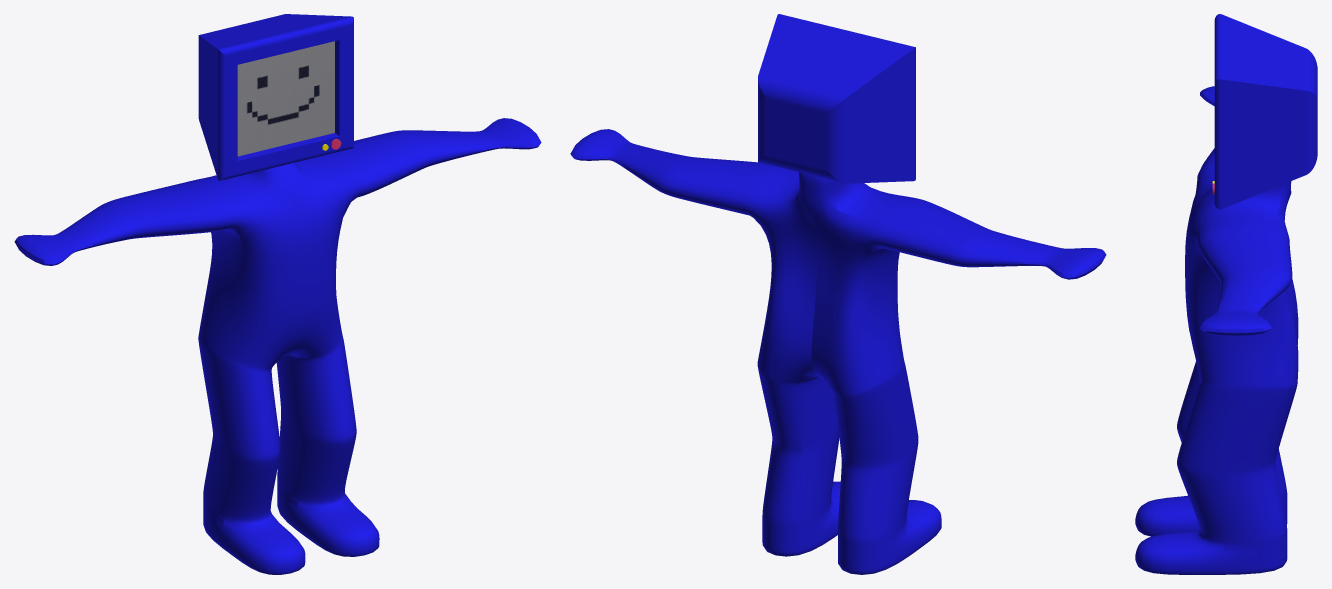
File: My Character.fbx
3 renders of one model, left to right at view 1: azimuth 30°, elevation 25°; view 2: azimuth 150°, elevation 25°; view 3: azimuth 270°, elevation 25°, orthographic. The views are drawn at different scales.
Parts seen in each view (by area): view 1: Cube.001, Cube; view 2: Cube.001, Cube; view 3: Cube.001, Cube.
Part boxes in pixels (x1=…): Cube.001: x1=14, y1=118, x2=541, y2=574; Cube: x1=198, y1=14, x2=353, y2=180; Cube.001: x1=570, y1=129, x2=1106, y2=574; Cube: x1=758, y1=14, x2=915, y2=183; Cube.001: x1=1135, y1=86, x2=1298, y2=574; Cube: x1=1214, y1=14, x2=1317, y2=209.
Bounding box in the file's own units: 7.08 × 2.22 × 6.73.
Materials: 5 (1 with a texture image).
